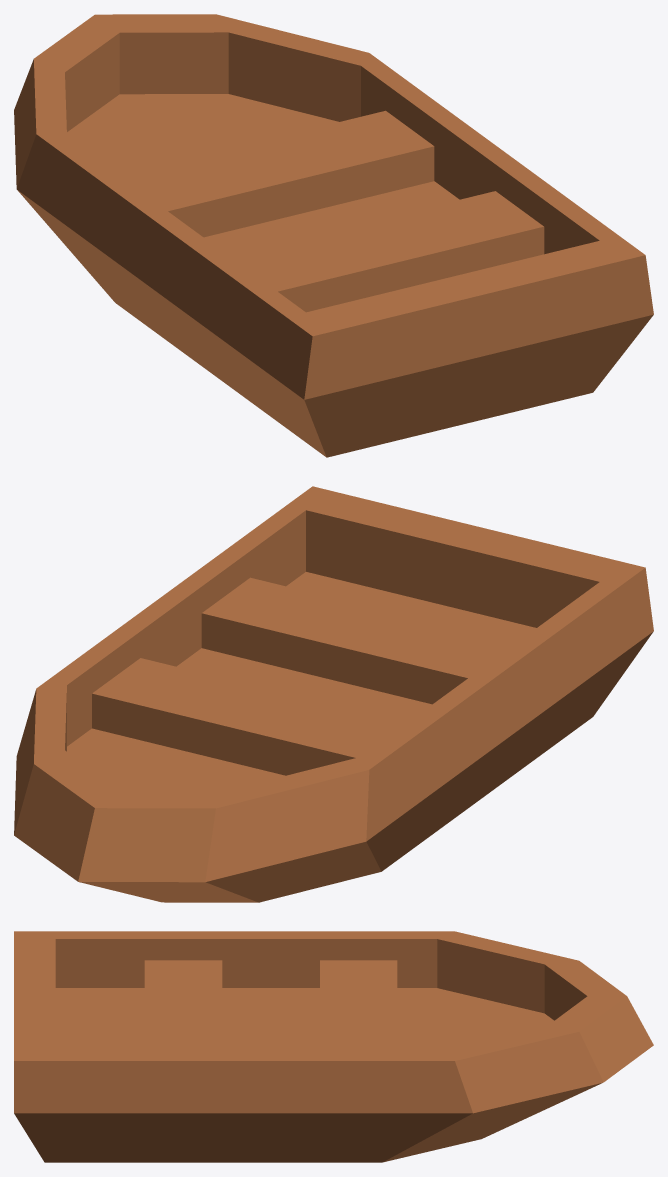
File: boat_large.glb
3 views of the same model, one above another, from view 1: azimuth 30°, elevation 25°; view 2: azimuth 150°, elevation 25°; view 3: azimuth 270°, elevation 25° (orthographic). The views are drawn at different scales.
Parts seen in each view (by area): view 1: boat_large; view 2: boat_large; view 3: boat_large.
Boxes of the visible parts, x1,y1,x2,y2 form: boat_large: (14,14,653,457); boat_large: (14,486,653,902); boat_large: (14,931,653,1162).
Bounding box in the file's own units: 8.93 × 3.5 × 17.73.
